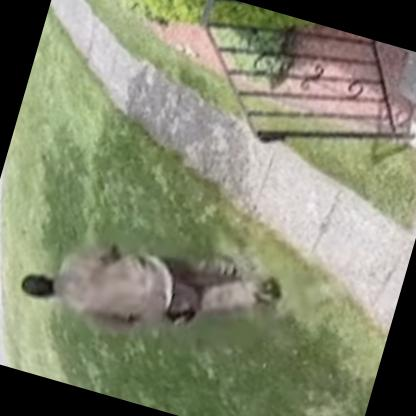Human Body: (6, 193, 296, 380)
